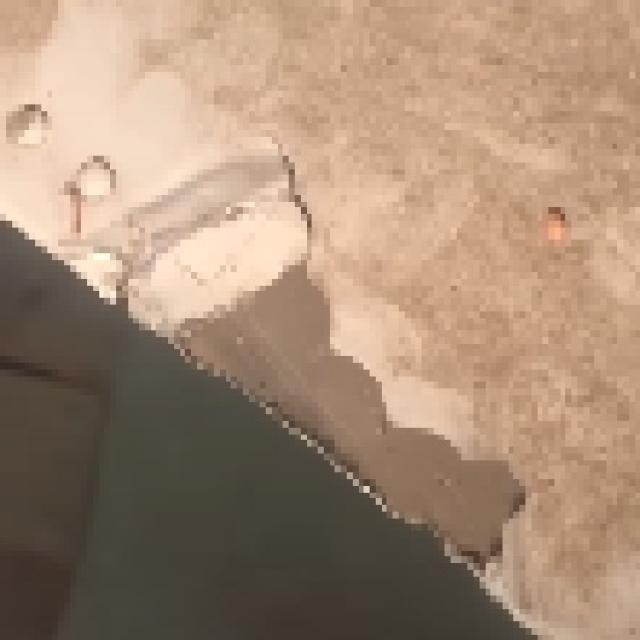crack: (259, 124, 333, 301)
